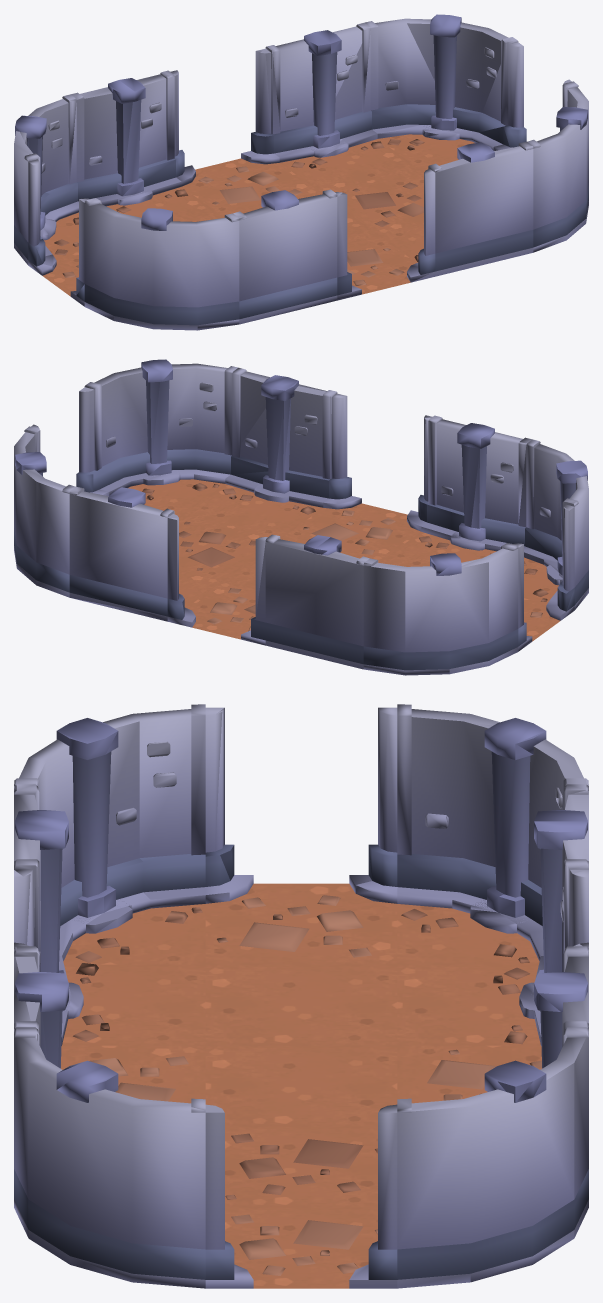
File: room-wide.fbx
The picture shows the model from 3 angles, top to bottom: view 1: azimuth 30°, elevation 25°; view 2: azimuth 150°, elevation 25°; view 3: azimuth 270°, elevation 25°; orthographic projection. The views are drawn at different scales.
Parts seen in each view (by area): view 1: room-wide; view 2: room-wide; view 3: room-wide.
Boxes of the visible parts, bbox=[...] form: room-wide: bbox=[14, 14, 588, 330]; room-wide: bbox=[14, 359, 588, 675]; room-wide: bbox=[14, 704, 588, 1288].
Bounding box in the file's own units: 2000 × 423 × 1200.
